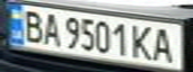0: (93, 18, 112, 55)
1: (109, 20, 130, 57)
5: (78, 16, 96, 52)
9: (60, 13, 81, 51)
A: (148, 25, 181, 64), (39, 10, 63, 47)
B: (18, 7, 48, 44)
K: (127, 22, 157, 61)
